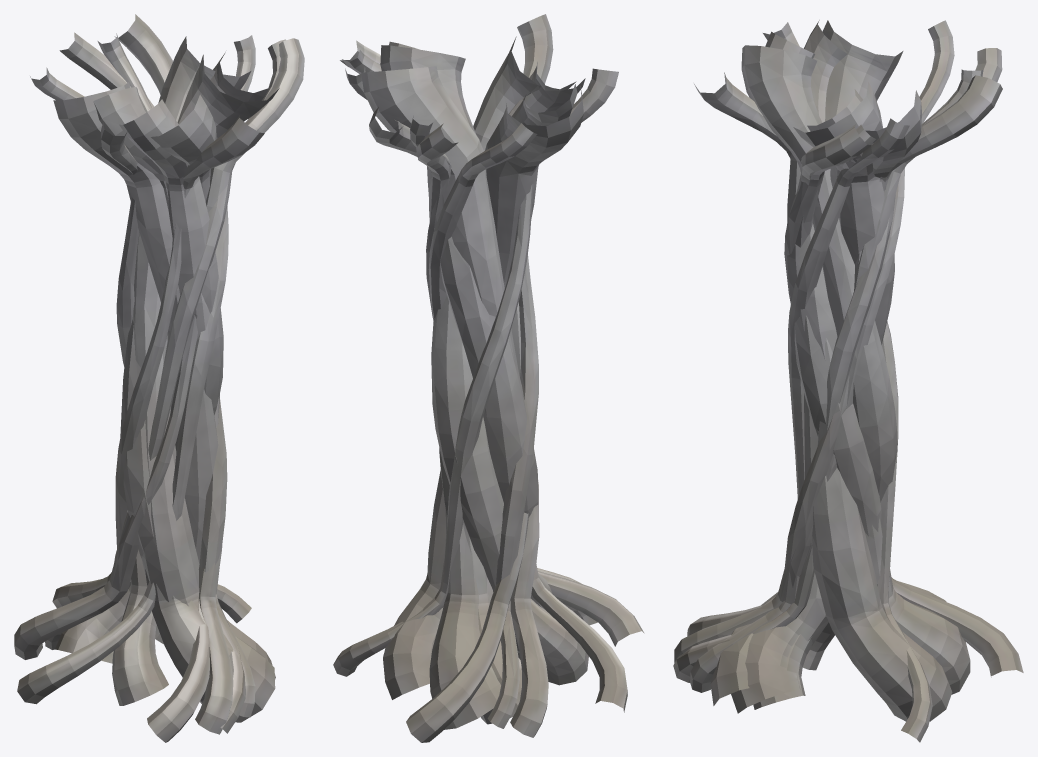
File: pilar_teia_v01.glb
The picture shows the model from 3 angles, left to right: view 1: azimuth 30°, elevation 25°; view 2: azimuth 150°, elevation 25°; view 3: azimuth 270°, elevation 25°; orthographic projection. The views are drawn at different scales.
Parts seen in each view (by area): view 1: pilar_teia; view 2: pilar_teia; view 3: pilar_teia.
Part boxes in pixels (x1,y1,x2,y2): pilar_teia: (14, 14, 304, 742); pilar_teia: (333, 14, 644, 742); pilar_teia: (673, 20, 1023, 742).
Bounding box in the file's own units: 1.67 × 3.54 × 1.71.
1 material, 1 textured.
